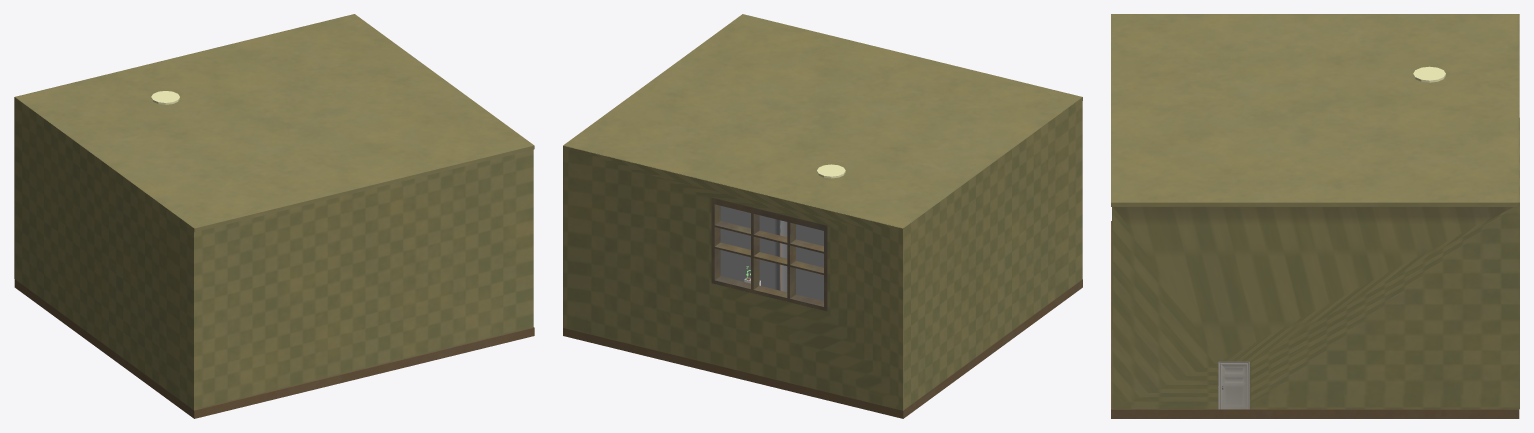
The model's file is changjing3.fbx.
The picture shows the model from 3 angles, left to right: view 1: azimuth 30°, elevation 25°; view 2: azimuth 150°, elevation 25°; view 3: azimuth 270°, elevation 25°; orthographic projection. The views are drawn at different scales.
Visible parts, largest first — view 1: ___polySurface135, ___group40polySurface137, ___group40polySurface1; view 2: ___polySurface135, ___group40polySurface137, ___pCube87, ___group40polySurface1, pCube74, pCube73; view 3: ___polySurface135, ___group40polySurface137, ___group40polySurface1, ___polySurface60group40, Hanging_Stars.
Boxes of the visible parts, box(x1,y1,x2,y2) form: ___polySurface135: box(14, 14, 533, 410); ___group40polySurface137: box(15, 14, 534, 232); ___group40polySurface1: box(14, 279, 534, 418); ___polySurface135: box(563, 97, 1082, 410); ___group40polySurface137: box(563, 14, 1082, 228); ___pCube87: box(711, 198, 827, 311); ___group40polySurface1: box(563, 279, 1082, 418); pCube74: box(720, 206, 780, 290); pCube73: box(781, 220, 823, 301); ___polySurface135: box(1112, 14, 1519, 409); ___group40polySurface137: box(1111, 14, 1519, 206); ___group40polySurface1: box(1111, 221, 1519, 418); ___polySurface60group40: box(1218, 361, 1249, 409); Hanging_Stars: box(1413, 66, 1445, 82).
Bounding box in the file's own units: 2289 × 1233 × 2091.
